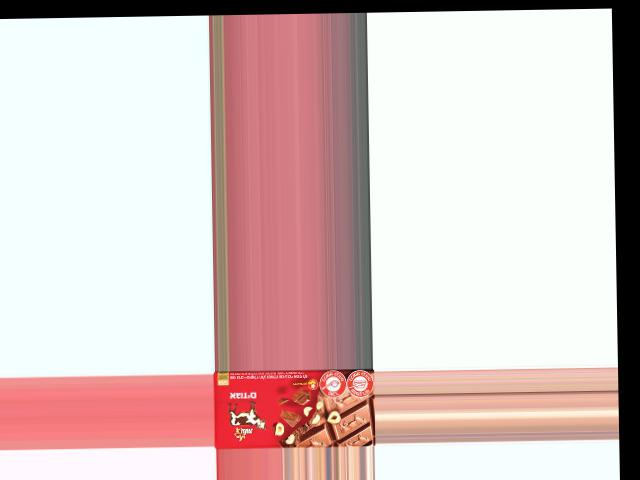chocolate: (212, 370, 374, 448)
